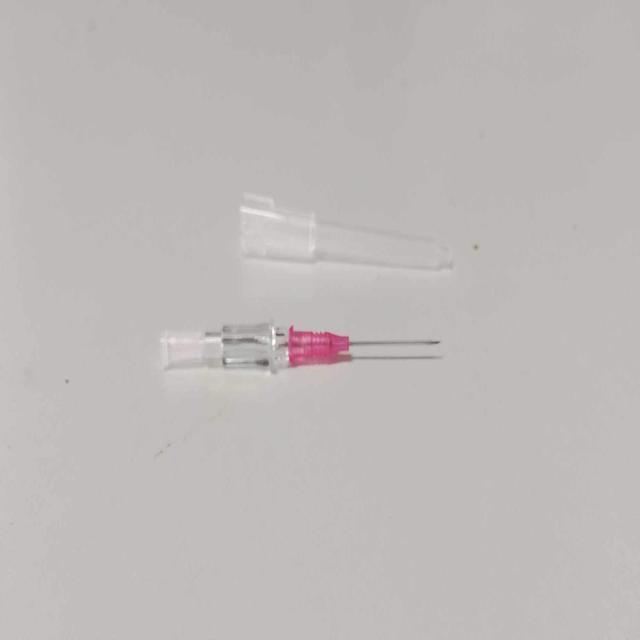General: (156, 190, 458, 379), (286, 325, 353, 367)
Infectious: (239, 192, 455, 272)
Sharps: (160, 320, 445, 375)
